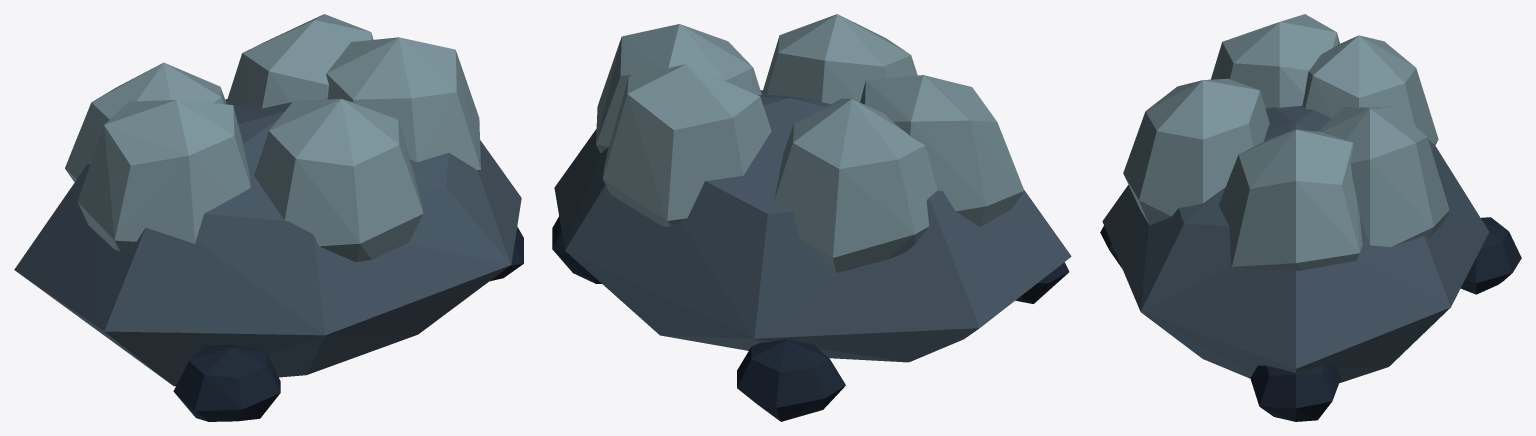
Rendered from Stone_Deposit.gltf.
The picture shows the model from 3 angles, left to right: view 1: azimuth 30°, elevation 25°; view 2: azimuth 150°, elevation 25°; view 3: azimuth 270°, elevation 25°; orthographic projection. The views are drawn at different scales.
Visible parts, largest first — view 1: Bedrock_0, StoneChunk_3, StoneChunk_5, StoneChunk_1, StoneChunk_4, Scatter_8, StoneChunk_2, Scatter_6; view 2: Bedrock_0, StoneChunk_2, StoneChunk_4, StoneChunk_5, StoneChunk_3, StoneChunk_1, Scatter_7, Scatter_6, Scatter_8; view 3: Bedrock_0, StoneChunk_1, StoneChunk_3, StoneChunk_4, StoneChunk_2, StoneChunk_5, Scatter_6, Scatter_7.
Boxes of the visible parts, x1,y1,x2,y2 form: Bedrock_0: (14, 99, 521, 386); StoneChunk_3: (254, 99, 423, 262); StoneChunk_5: (77, 100, 250, 251); StoneChunk_1: (326, 37, 480, 171); StoneChunk_4: (226, 14, 373, 108); Scatter_8: (173, 345, 280, 421); StoneChunk_2: (65, 62, 226, 182); Scatter_6: (490, 227, 523, 281); Bedrock_0: (554, 90, 1071, 362); StoneChunk_2: (774, 98, 937, 272); StoneChunk_4: (603, 64, 771, 226); StoneChunk_5: (860, 75, 1024, 226); StoneChunk_3: (763, 14, 917, 103); StoneChunk_1: (596, 24, 761, 152); Scatter_7: (737, 339, 845, 421); Scatter_6: (552, 216, 601, 283); Scatter_8: (1015, 262, 1069, 303); Bedrock_0: (1102, 105, 1488, 382); StoneChunk_1: (1219, 129, 1362, 270); StoneChunk_3: (1123, 78, 1269, 225); StoneChunk_4: (1318, 106, 1449, 247); StoneChunk_2: (1302, 35, 1438, 144); StoneChunk_5: (1211, 14, 1339, 108); Scatter_6: (1250, 365, 1341, 421); Scatter_7: (1460, 217, 1521, 294).
Bounding box in the file's own units: 2.2 × 1.21 × 1.81.
